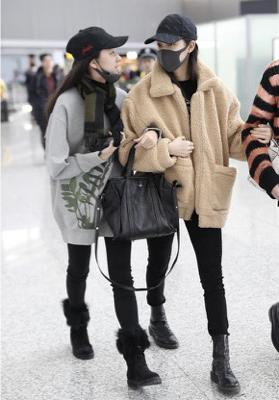mask_weared_incorrect: (96, 47, 123, 80)
with_mask: (156, 39, 189, 72)
